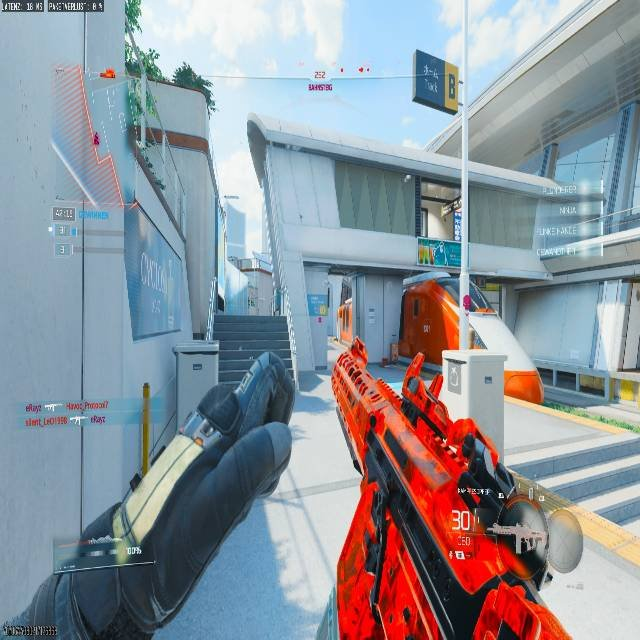player: (349, 336, 367, 367)
